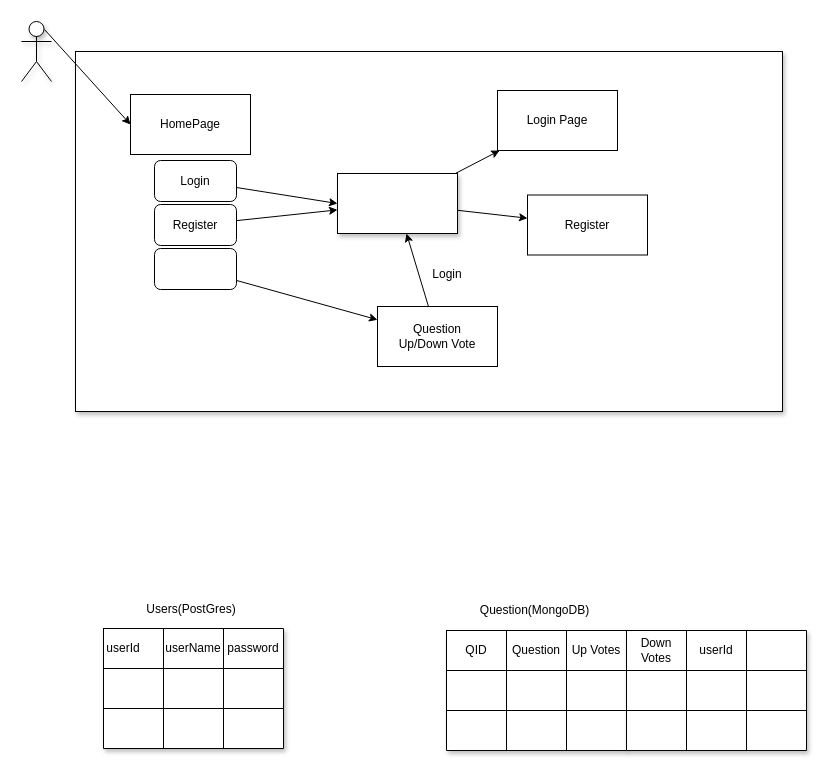
Some shapes in this 830 by 778 pixel diagram are drawn without their labels. The shapes that lost their labels are listed below. From the top down, each one's centre as x and y in pixels, then its label:
[37,52]: Actor
[398,204]: Login/SignUp
[195,269]: Dashboard
